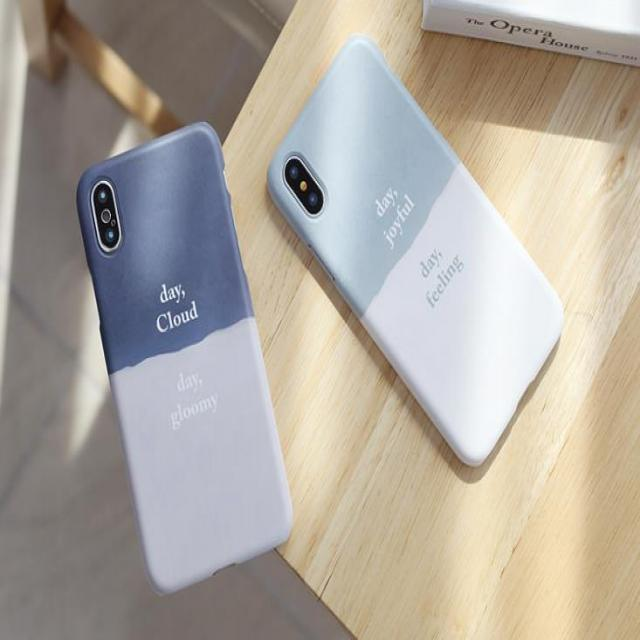phone: (268, 33, 568, 476), (76, 124, 295, 598)
